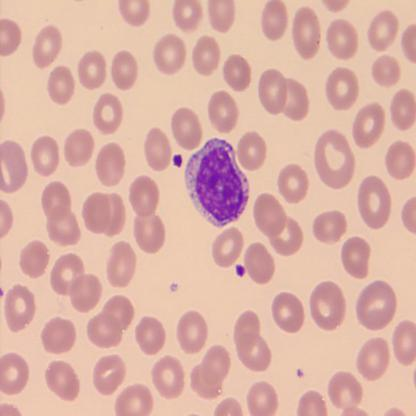Metamyelocyte: (183, 135, 251, 229)
